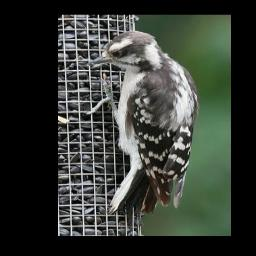Woodpecker: (84, 29, 199, 221)
